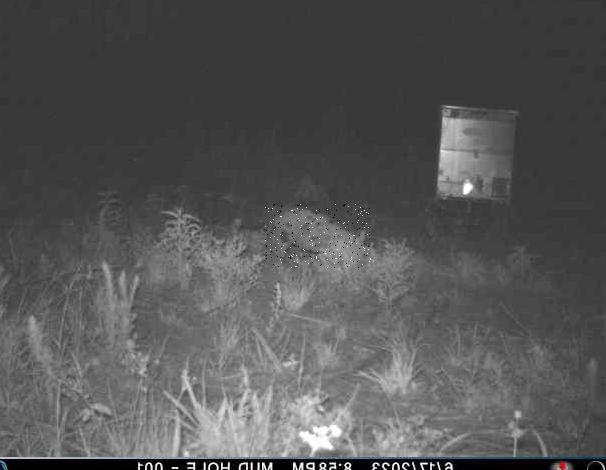Hog: (265, 204, 371, 268)
